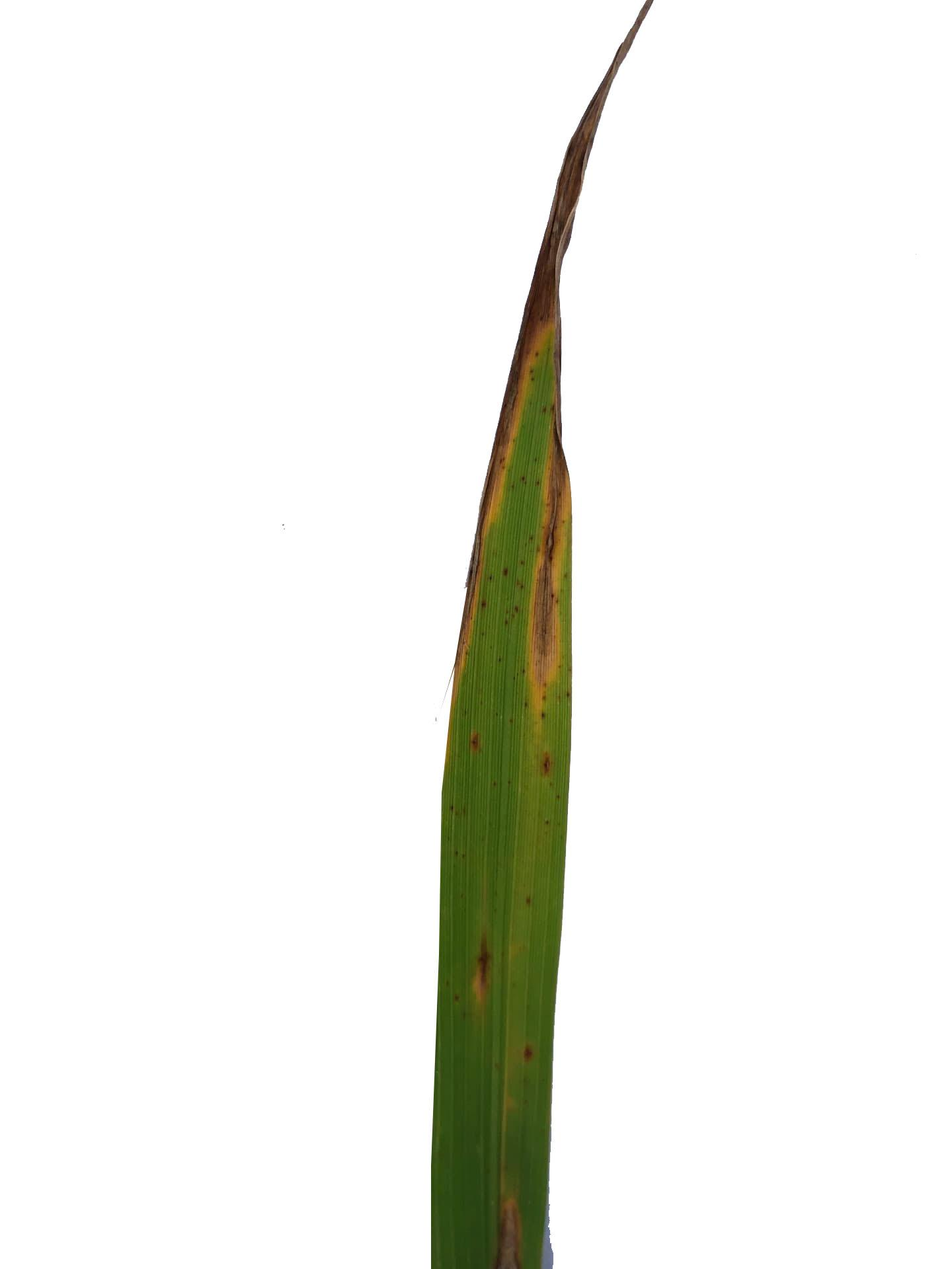Brown spot: (476, 919, 496, 1024)
Rice blast: (450, 0, 661, 552), (522, 420, 582, 704), (493, 1176, 536, 1269)
